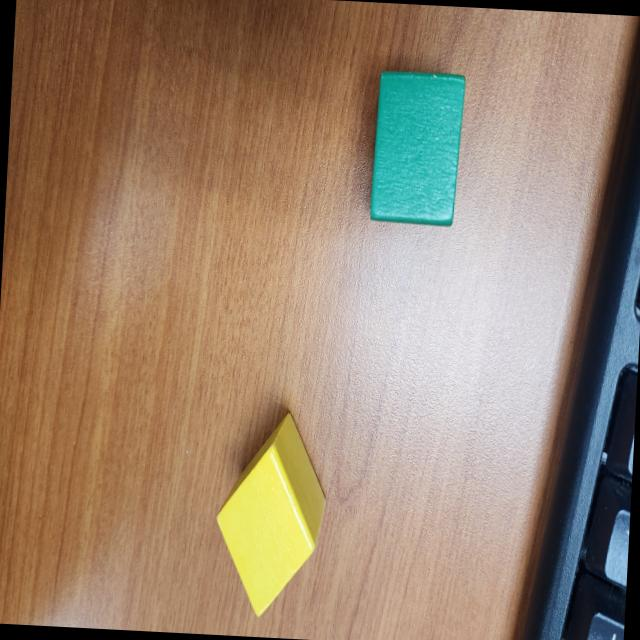green: (368, 71, 464, 229)
yellow: (217, 414, 326, 619)
